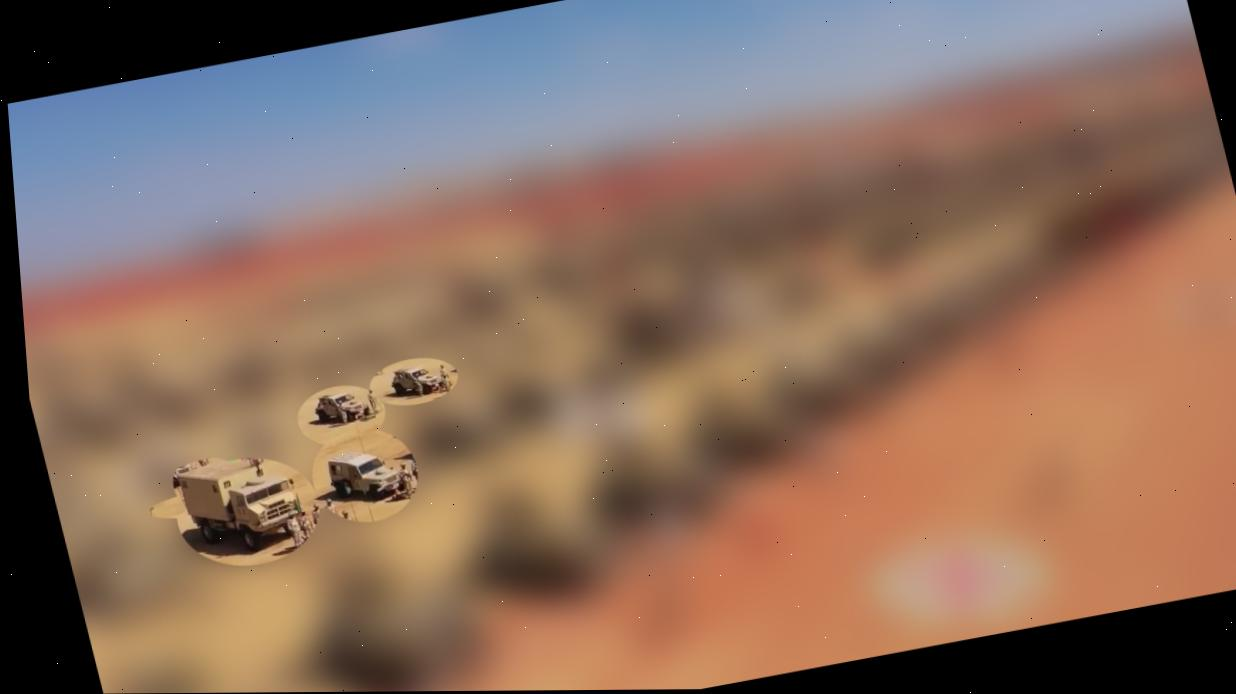armored_car: (321, 444, 414, 509), (306, 386, 377, 432), (386, 361, 449, 403)
truck: (168, 447, 314, 567)
